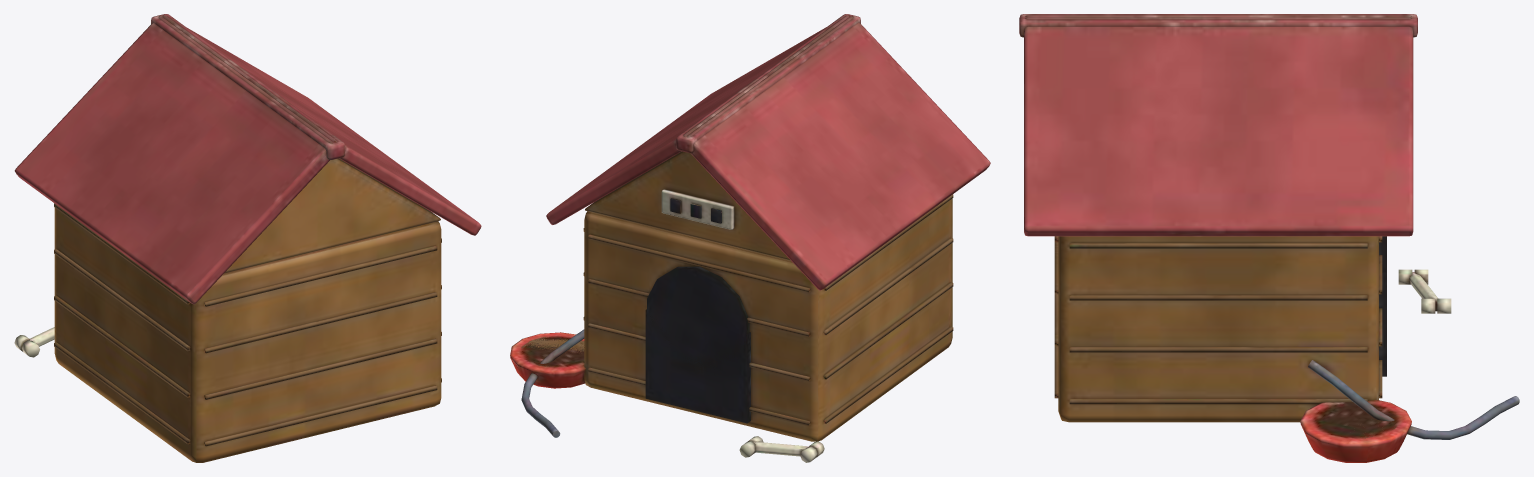
Rendered from kennel.glb.
3 renders of one model, left to right at view 1: azimuth 30°, elevation 25°; view 2: azimuth 150°, elevation 25°; view 3: azimuth 270°, elevation 25°, orthographic. The views are drawn at different scales.
Parts seen in each view (by area): view 1: body; view 2: body; view 3: body.
Part boxes in pixels (left/top/right/bottom): body: left=14, top=14, right=481, bottom=462; body: left=510, top=14, right=990, bottom=462; body: left=1019, top=14, right=1519, bottom=462.
Bounding box in the file's own units: 1.97 × 1.65 × 2.18.
1 material, 1 textured.
